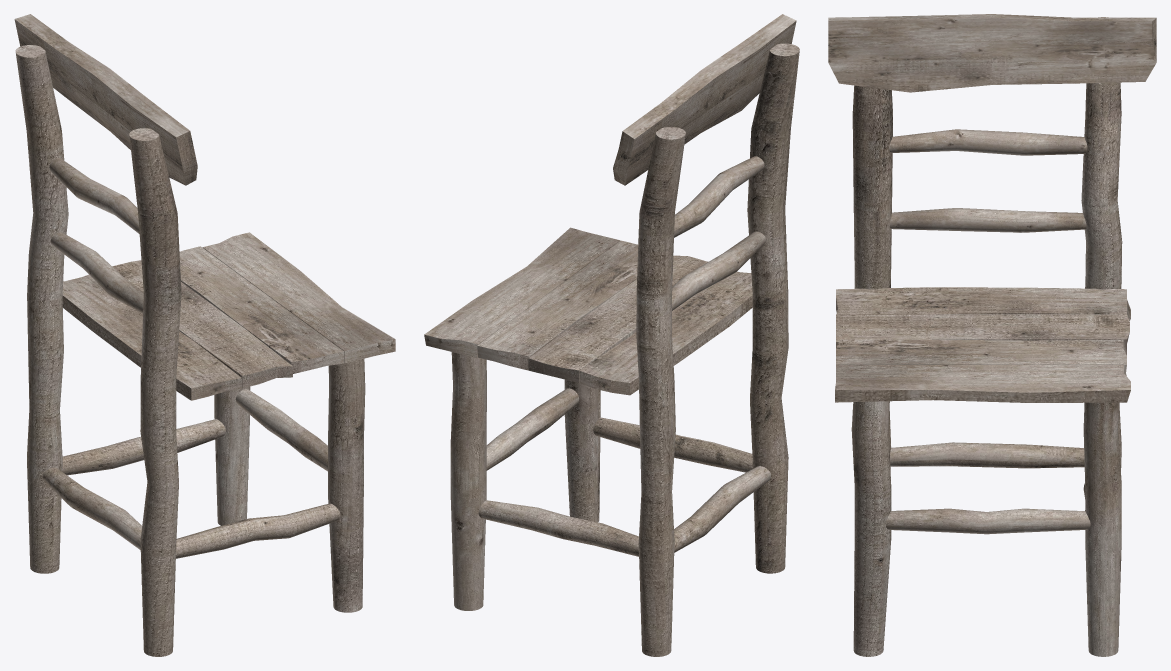
The model's file is Oldchair.fbx.
3 views of the same model, side by side, from view 1: azimuth 30°, elevation 25°; view 2: azimuth 150°, elevation 25°; view 3: azimuth 270°, elevation 25° (orthographic).
Parts seen in each view (by area): view 1: Cylinder.003; view 2: Cylinder.003; view 3: Cylinder.003.
Part boxes in pixels (bbox=[...]): Cylinder.003: bbox=[14, 14, 395, 656]; Cylinder.003: bbox=[424, 14, 799, 656]; Cylinder.003: bbox=[828, 14, 1156, 656].
Bounding box in the file's own units: 115 × 240 × 131.
1 material, 1 textured.
